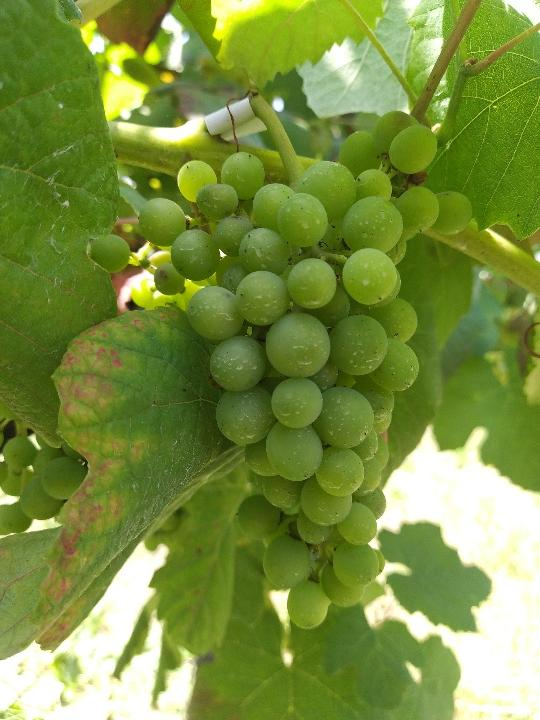grape: (87, 108, 477, 634)
